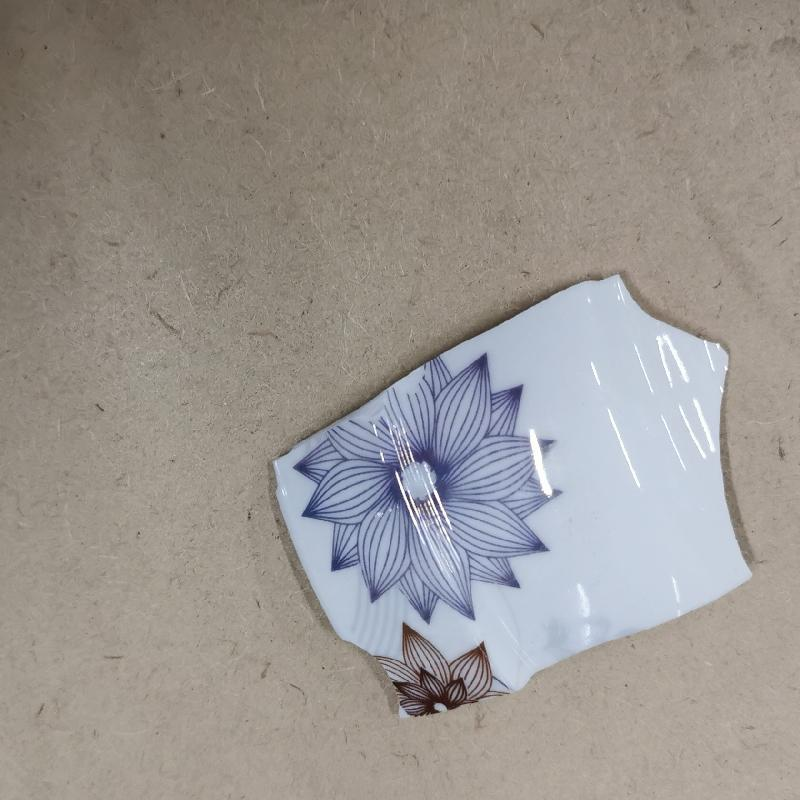ceram: (265, 269, 775, 720)
